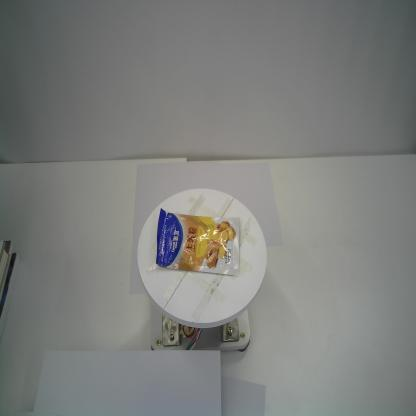Seasoner: (155, 208, 240, 277)
